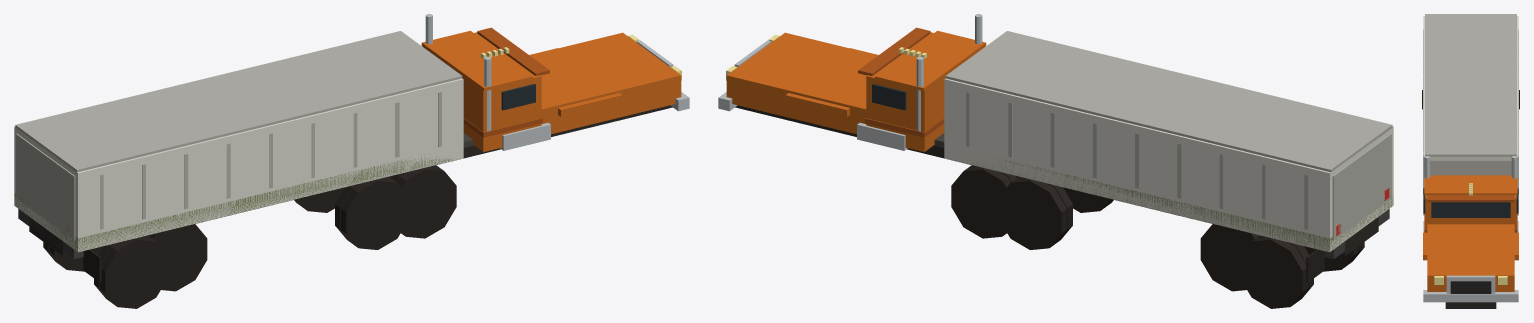
Rendered from base_semi.glb.
The picture shows the model from 3 angles, left to right: view 1: azimuth 30°, elevation 25°; view 2: azimuth 150°, elevation 25°; view 3: azimuth 270°, elevation 25°; orthographic projection. The views are drawn at different scales.
Visible parts, largest first — view 1: base_semi; view 2: base_semi; view 3: base_semi.
Part boxes in pixels (<box>): base_semi: <box>14,14,689,308</box>; base_semi: <box>718,14,1393,308</box>; base_semi: <box>1422,14,1519,308</box>.
Size of the model in its own units: 12.97 by 3.3 by 2.4.
